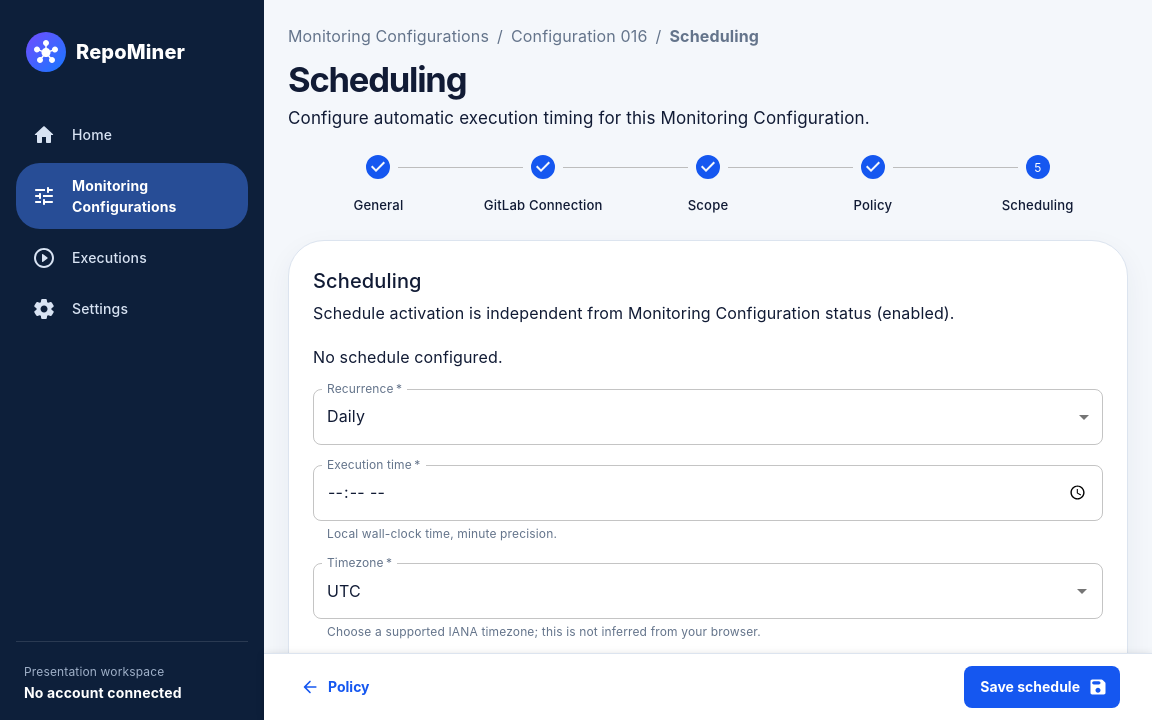
Test case: does not leave Scheduling when final schedule validation fails
Expected: the dropdown named "Recurrence" is shown, [327,406,365,426]
Click the button "Save schedule" at (1042,687), box [964,666,1120,708]
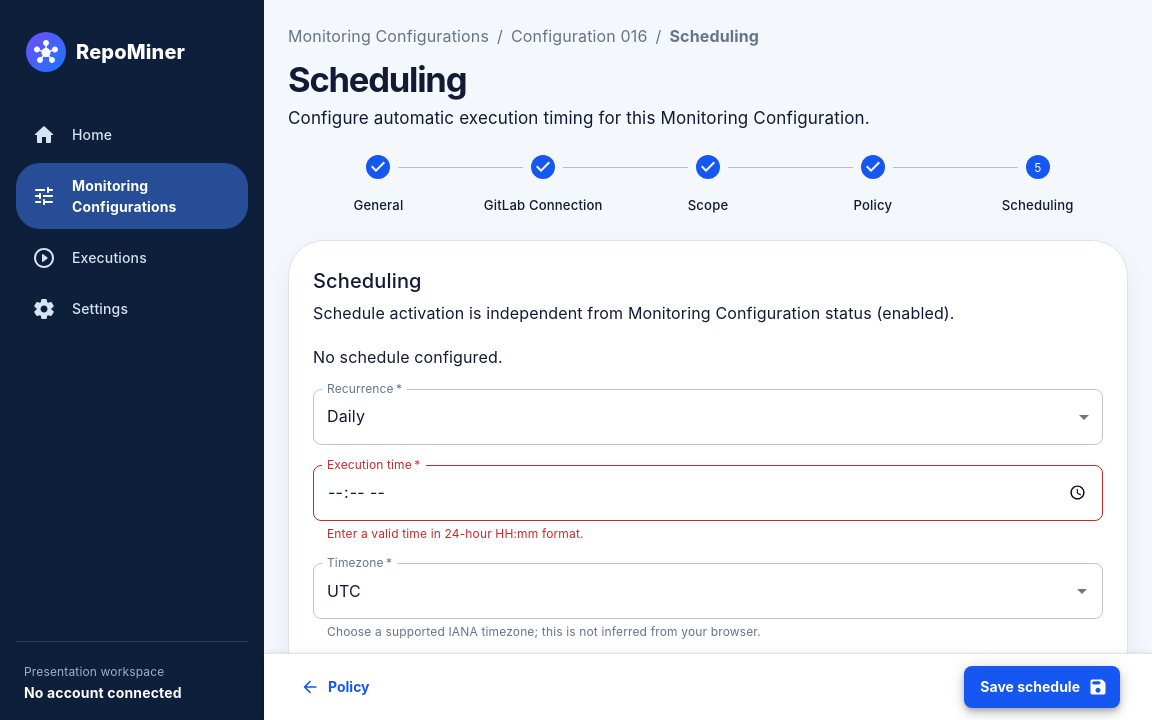
Expected: the text "Enter a valid time in 24-hour HH:mm format." is shown, [327,526,584,541]
